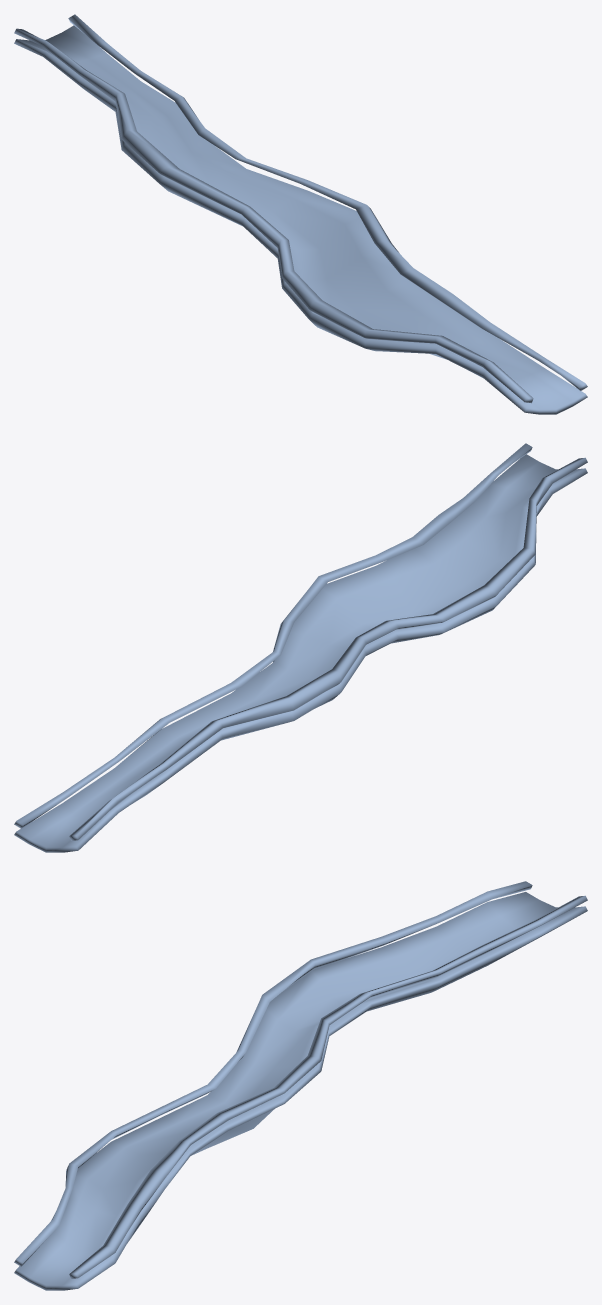
Rendered from junRoadLong2p5.fbx.
The picture shows the model from 3 angles, top to bottom: view 1: azimuth 30°, elevation 25°; view 2: azimuth 150°, elevation 25°; view 3: azimuth 330°, elevation 25°; orthographic projection.
Visible parts, largest first — view 1: junRoadLong2p5_LOD0, junRoadLong2p5_edge_LOD0; view 2: junRoadLong2p5_LOD0, junRoadLong2p5_edge_LOD0; view 3: junRoadLong2p5_LOD0, junRoadLong2p5_edge_LOD0.
Boxes of the visible parts, x1,y1,x2,y2 form: junRoadLong2p5_LOD0: (14, 25, 587, 414); junRoadLong2p5_edge_LOD0: (14, 14, 587, 403); junRoadLong2p5_LOD0: (14, 454, 587, 852); junRoadLong2p5_edge_LOD0: (14, 443, 587, 840); junRoadLong2p5_LOD0: (14, 892, 587, 1290); junRoadLong2p5_edge_LOD0: (14, 881, 587, 1278).
Size of the model in its own units: 633 by 292 by 4390.
